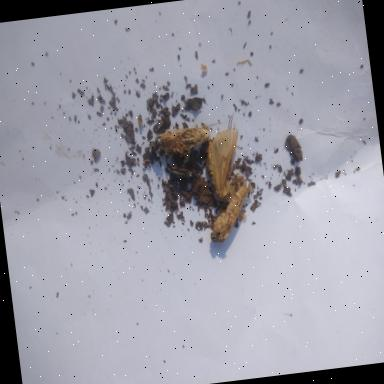abw: (194, 123, 256, 207), (208, 180, 262, 252), (150, 122, 214, 159)
